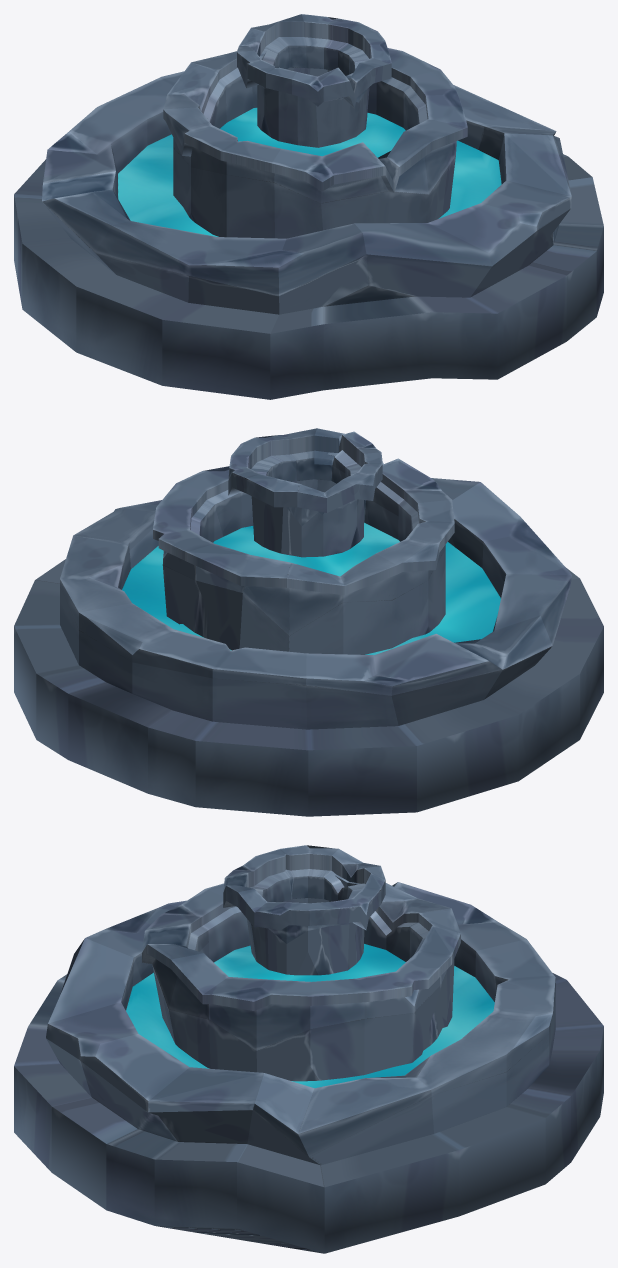
File: Fountain.fbx
3 views of the same model, one above another, from view 1: azimuth 30°, elevation 25°; view 2: azimuth 150°, elevation 25°; view 3: azimuth 270°, elevation 25° (orthographic).
Parts seen in each view (by area): view 1: WaterChaft; view 2: WaterChaft; view 3: WaterChaft.
Part boxes in pixels (x1,y1,x2,y2): WaterChaft: (14,14,603,399); WaterChaft: (14,428,603,816); WaterChaft: (14,845,603,1253).
Size of the model in its own units: 859 by 394 by 844.
